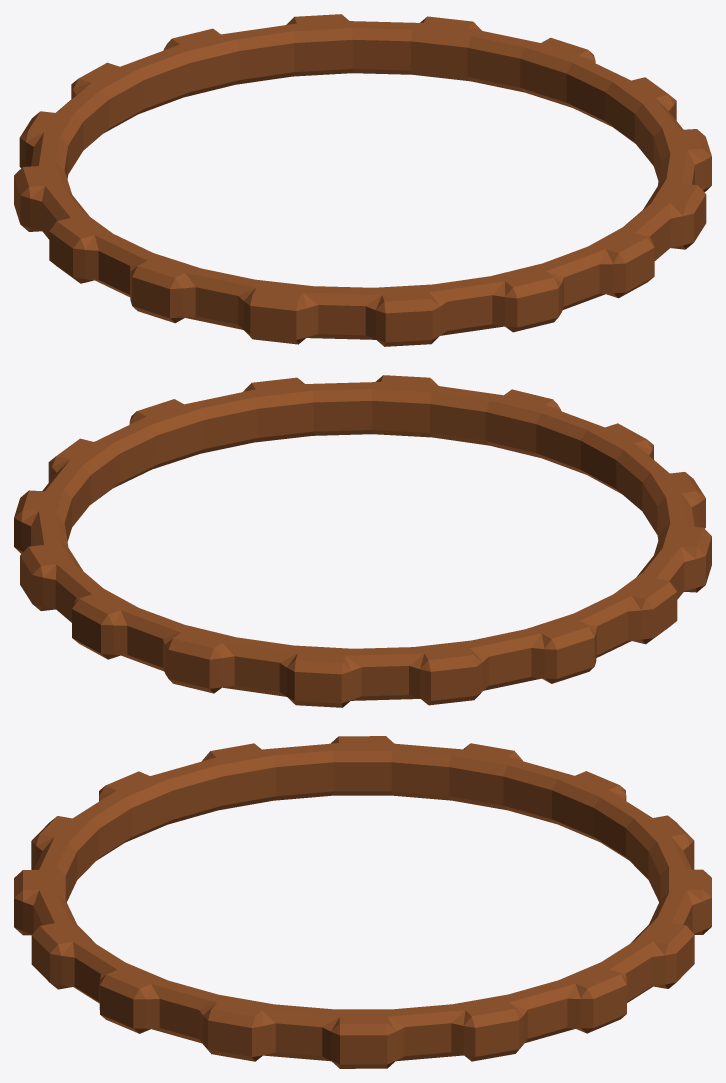
File: EngrenagemExterna.fbx
3 renders of one model, top to bottom at view 1: azimuth 30°, elevation 25°; view 2: azimuth 150°, elevation 25°; view 3: azimuth 270°, elevation 25°, orthographic.
Visible parts, largest first — view 1: EngrenagemExterna; view 2: EngrenagemExterna; view 3: EngrenagemExterna.
Boxes of the visible parts, x1,y1,x2,y2 form: EngrenagemExterna: (14,14,711,346); EngrenagemExterna: (14,375,711,707); EngrenagemExterna: (14,736,711,1068).
Bounding box in the file's own units: 393 × 28.09 × 393.
